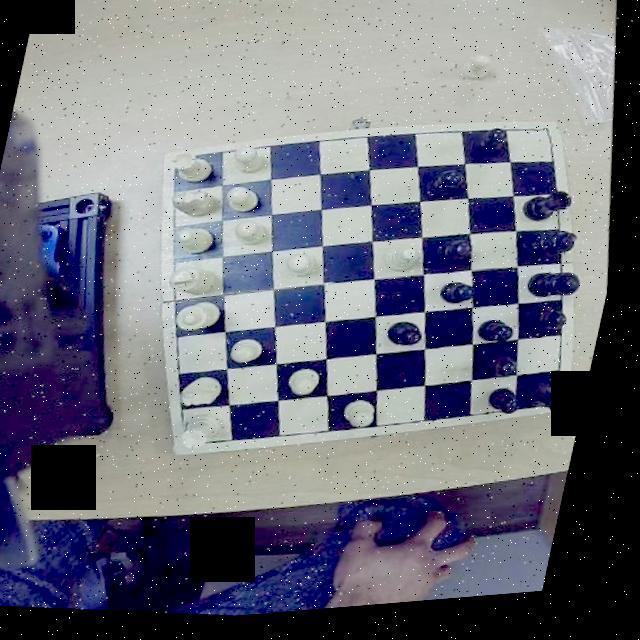chess-table-corners: (178, 419, 222, 462), (540, 388, 582, 424), (162, 152, 200, 190), (536, 128, 572, 160)
